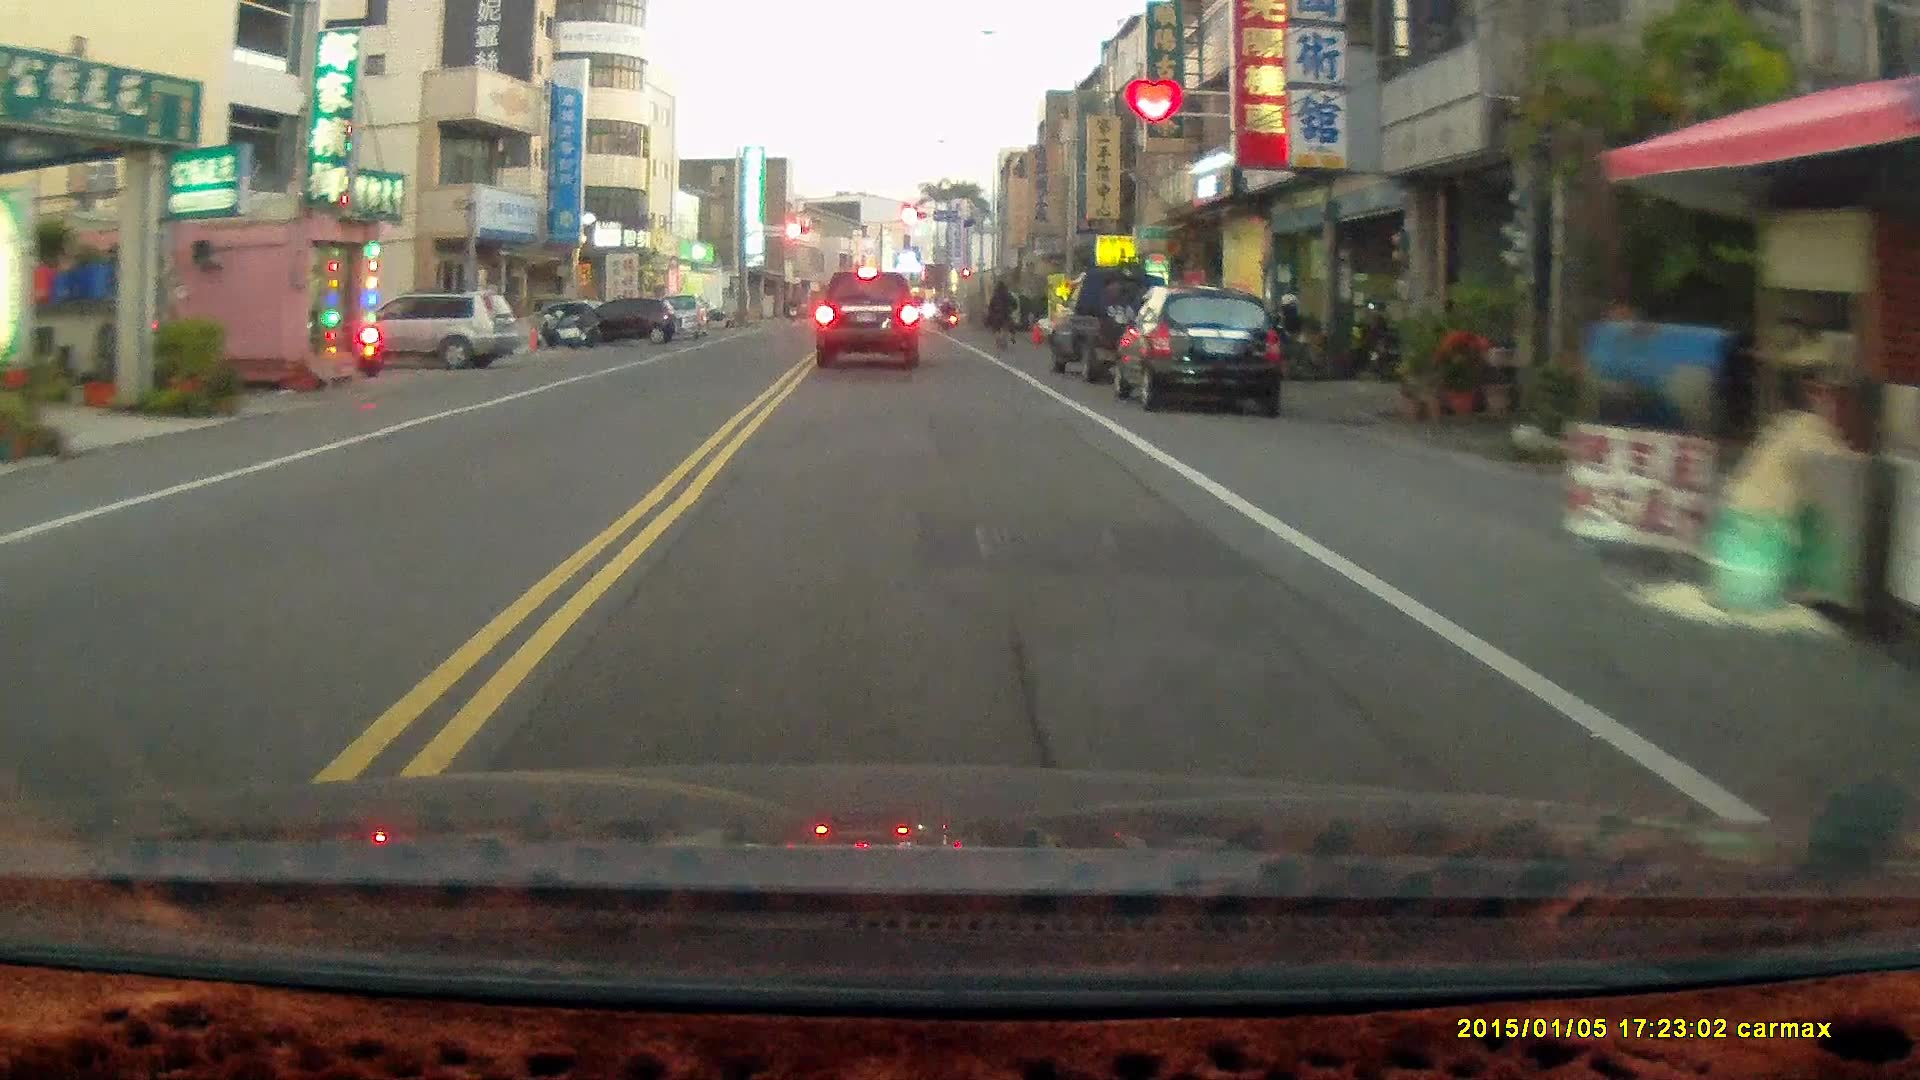rider: (986, 277, 1018, 351)
vehicle: (1123, 281, 1294, 409), (1048, 263, 1205, 383), (324, 293, 519, 375), (815, 264, 923, 368), (556, 296, 679, 344)
